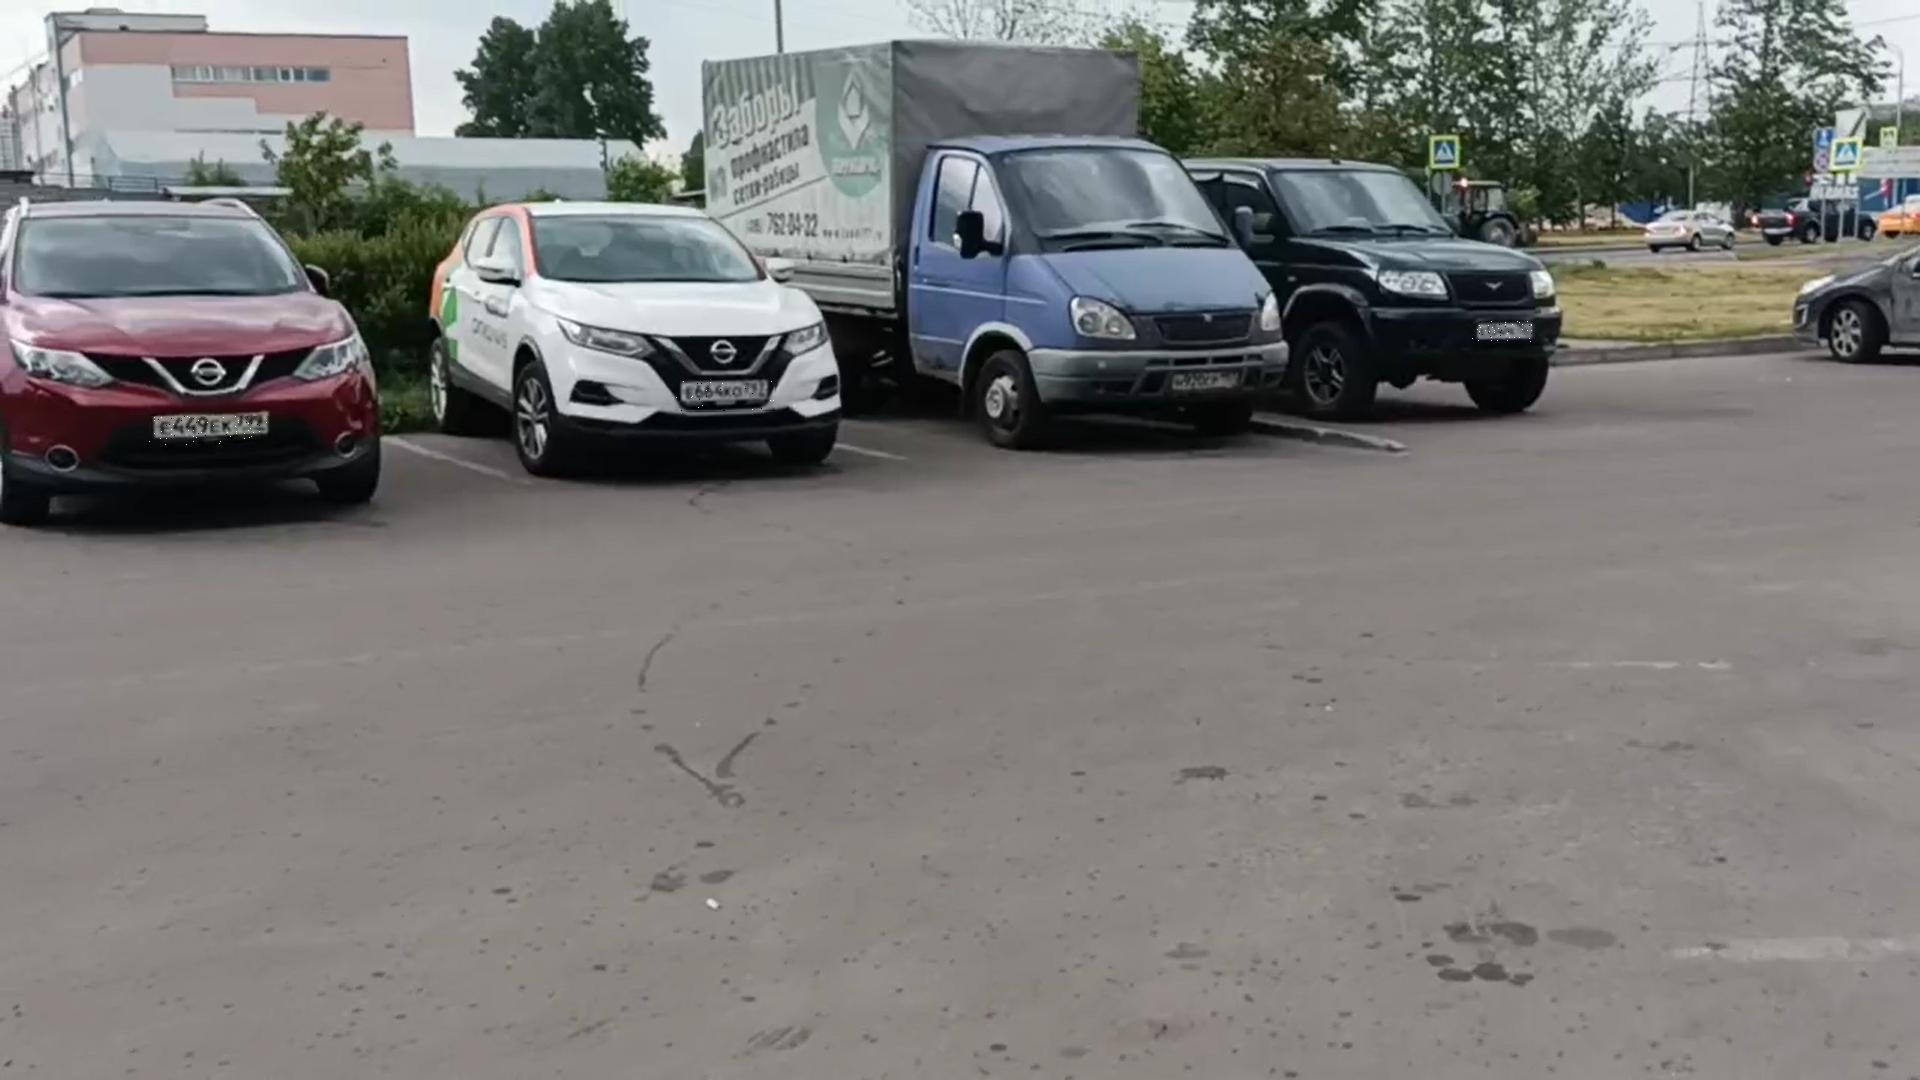plate: (149, 418, 273, 447), (676, 381, 777, 413), (1166, 372, 1228, 397), (1473, 323, 1536, 344)
